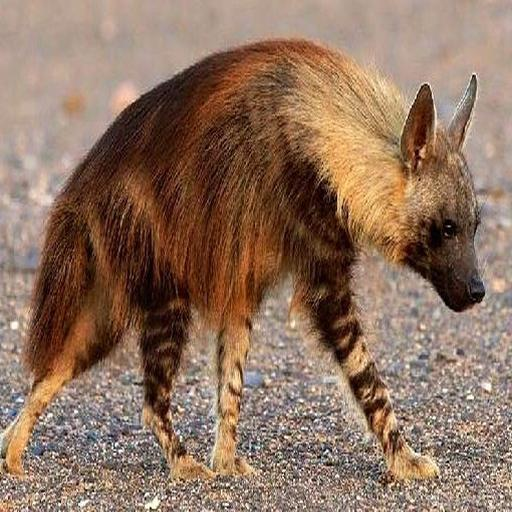Hyena: (0, 36, 489, 506)
